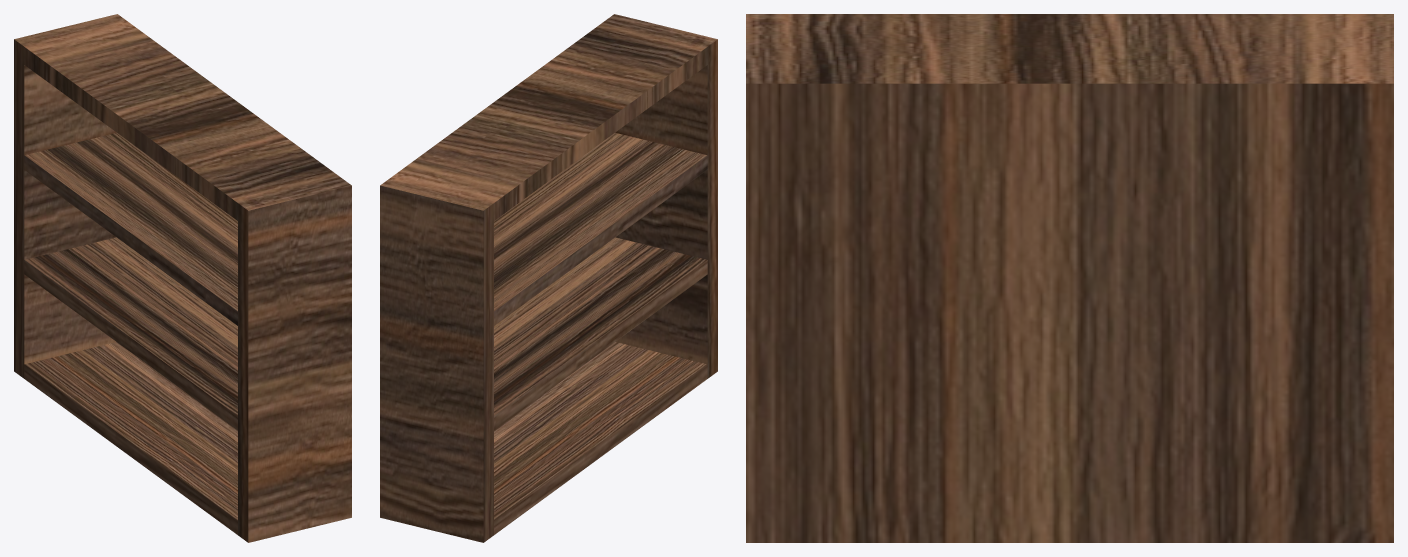
The model's file is bookcase3.fbx.
3 renders of one model, left to right at view 1: azimuth 30°, elevation 25°; view 2: azimuth 150°, elevation 25°; view 3: azimuth 270°, elevation 25°, orthographic. The views are drawn at different scales.
Visible parts, largest first — view 1: Box041; view 2: Box041; view 3: Box041.
Part boxes in pixels (x1,y1,x2,y2): Box041: (14,14,351,542); Box041: (380,14,717,542); Box041: (746,14,1393,542).
Size of the model in its own units: 343 by 1053 by 1346.
